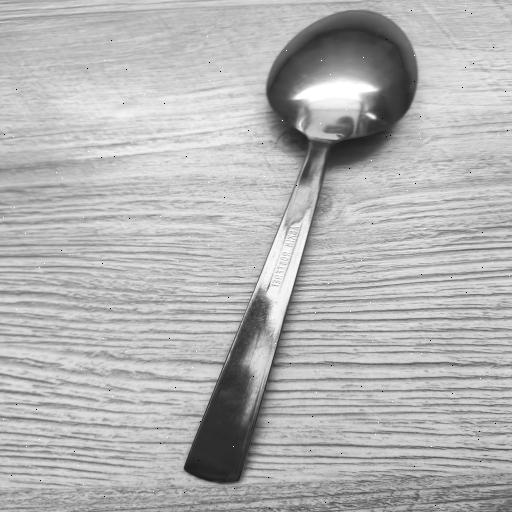spoon: (172, 5, 418, 483)
